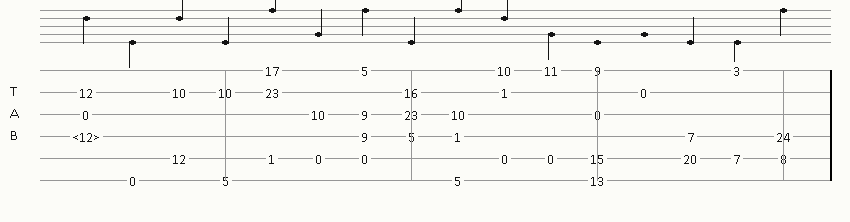0: (82, 108, 93, 121), (129, 174, 140, 187), (315, 152, 326, 165), (361, 152, 372, 165), (501, 152, 512, 165), (547, 152, 558, 165), (594, 108, 605, 121), (640, 86, 651, 99)
1: (268, 152, 279, 165), (454, 130, 465, 143), (501, 86, 512, 99)
10: (172, 86, 190, 99), (218, 86, 236, 99), (311, 108, 329, 121), (451, 108, 469, 121), (497, 64, 515, 77)
11: (544, 64, 562, 77)
12: (79, 86, 97, 99), (172, 152, 190, 165)
13: (590, 174, 608, 187)
15: (590, 152, 608, 165)
16: (404, 86, 422, 99)
17: (265, 64, 283, 77)
20: (683, 152, 701, 165)
23: (265, 86, 283, 99), (404, 108, 422, 121)
24: (776, 130, 794, 143)
3: (733, 64, 744, 77)
5: (222, 174, 233, 187), (361, 64, 372, 77), (408, 130, 419, 143), (454, 174, 465, 187)
7: (687, 130, 698, 143), (733, 152, 744, 165)
8: (780, 152, 791, 165)
9: (361, 130, 372, 143), (361, 108, 372, 121), (594, 64, 605, 77)
harmonic: (72, 130, 104, 143)
